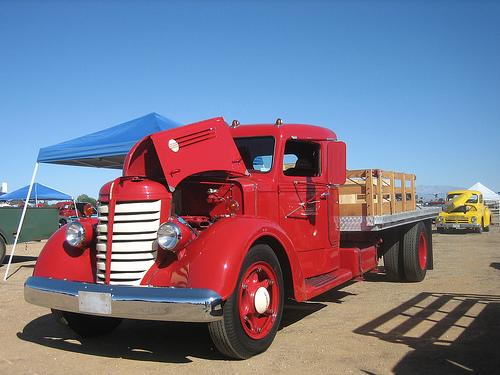truck: (24, 116, 442, 360)
